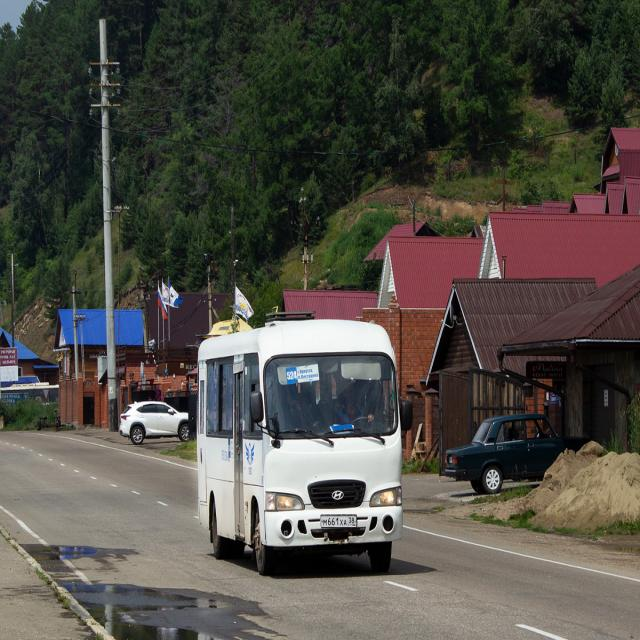number-of-bus: (288, 371, 299, 382)
